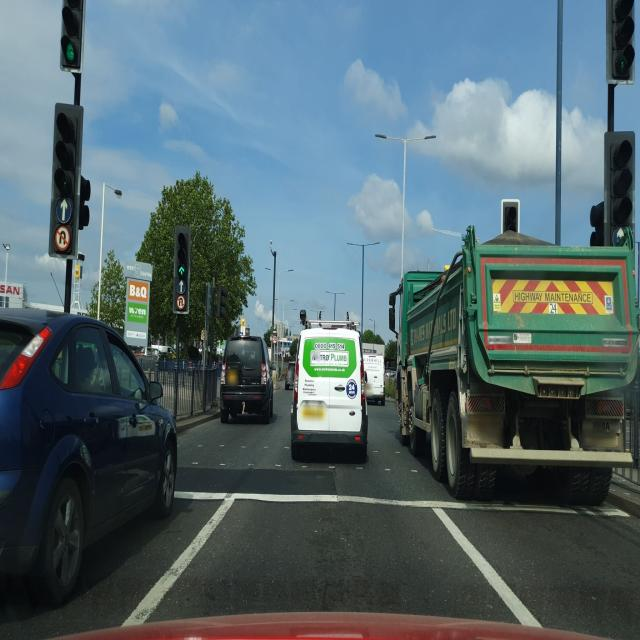car: (0, 301, 179, 607), (289, 312, 369, 462), (220, 332, 274, 426), (284, 358, 297, 392)
